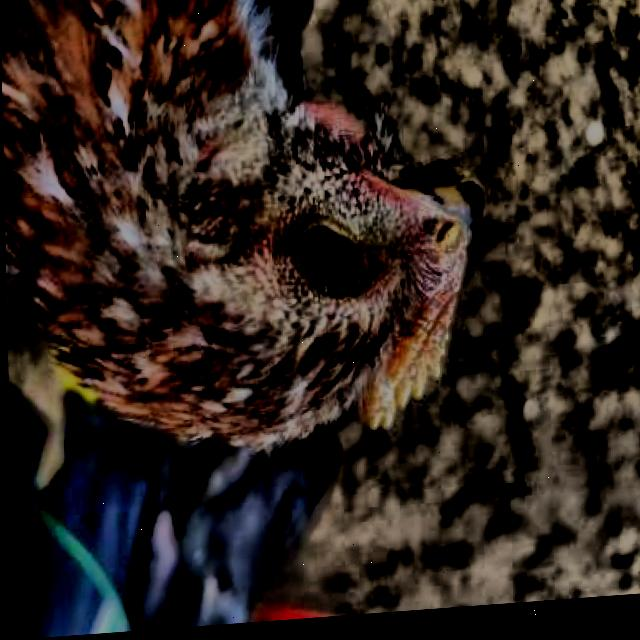Healthy: (244, 219, 394, 308)
